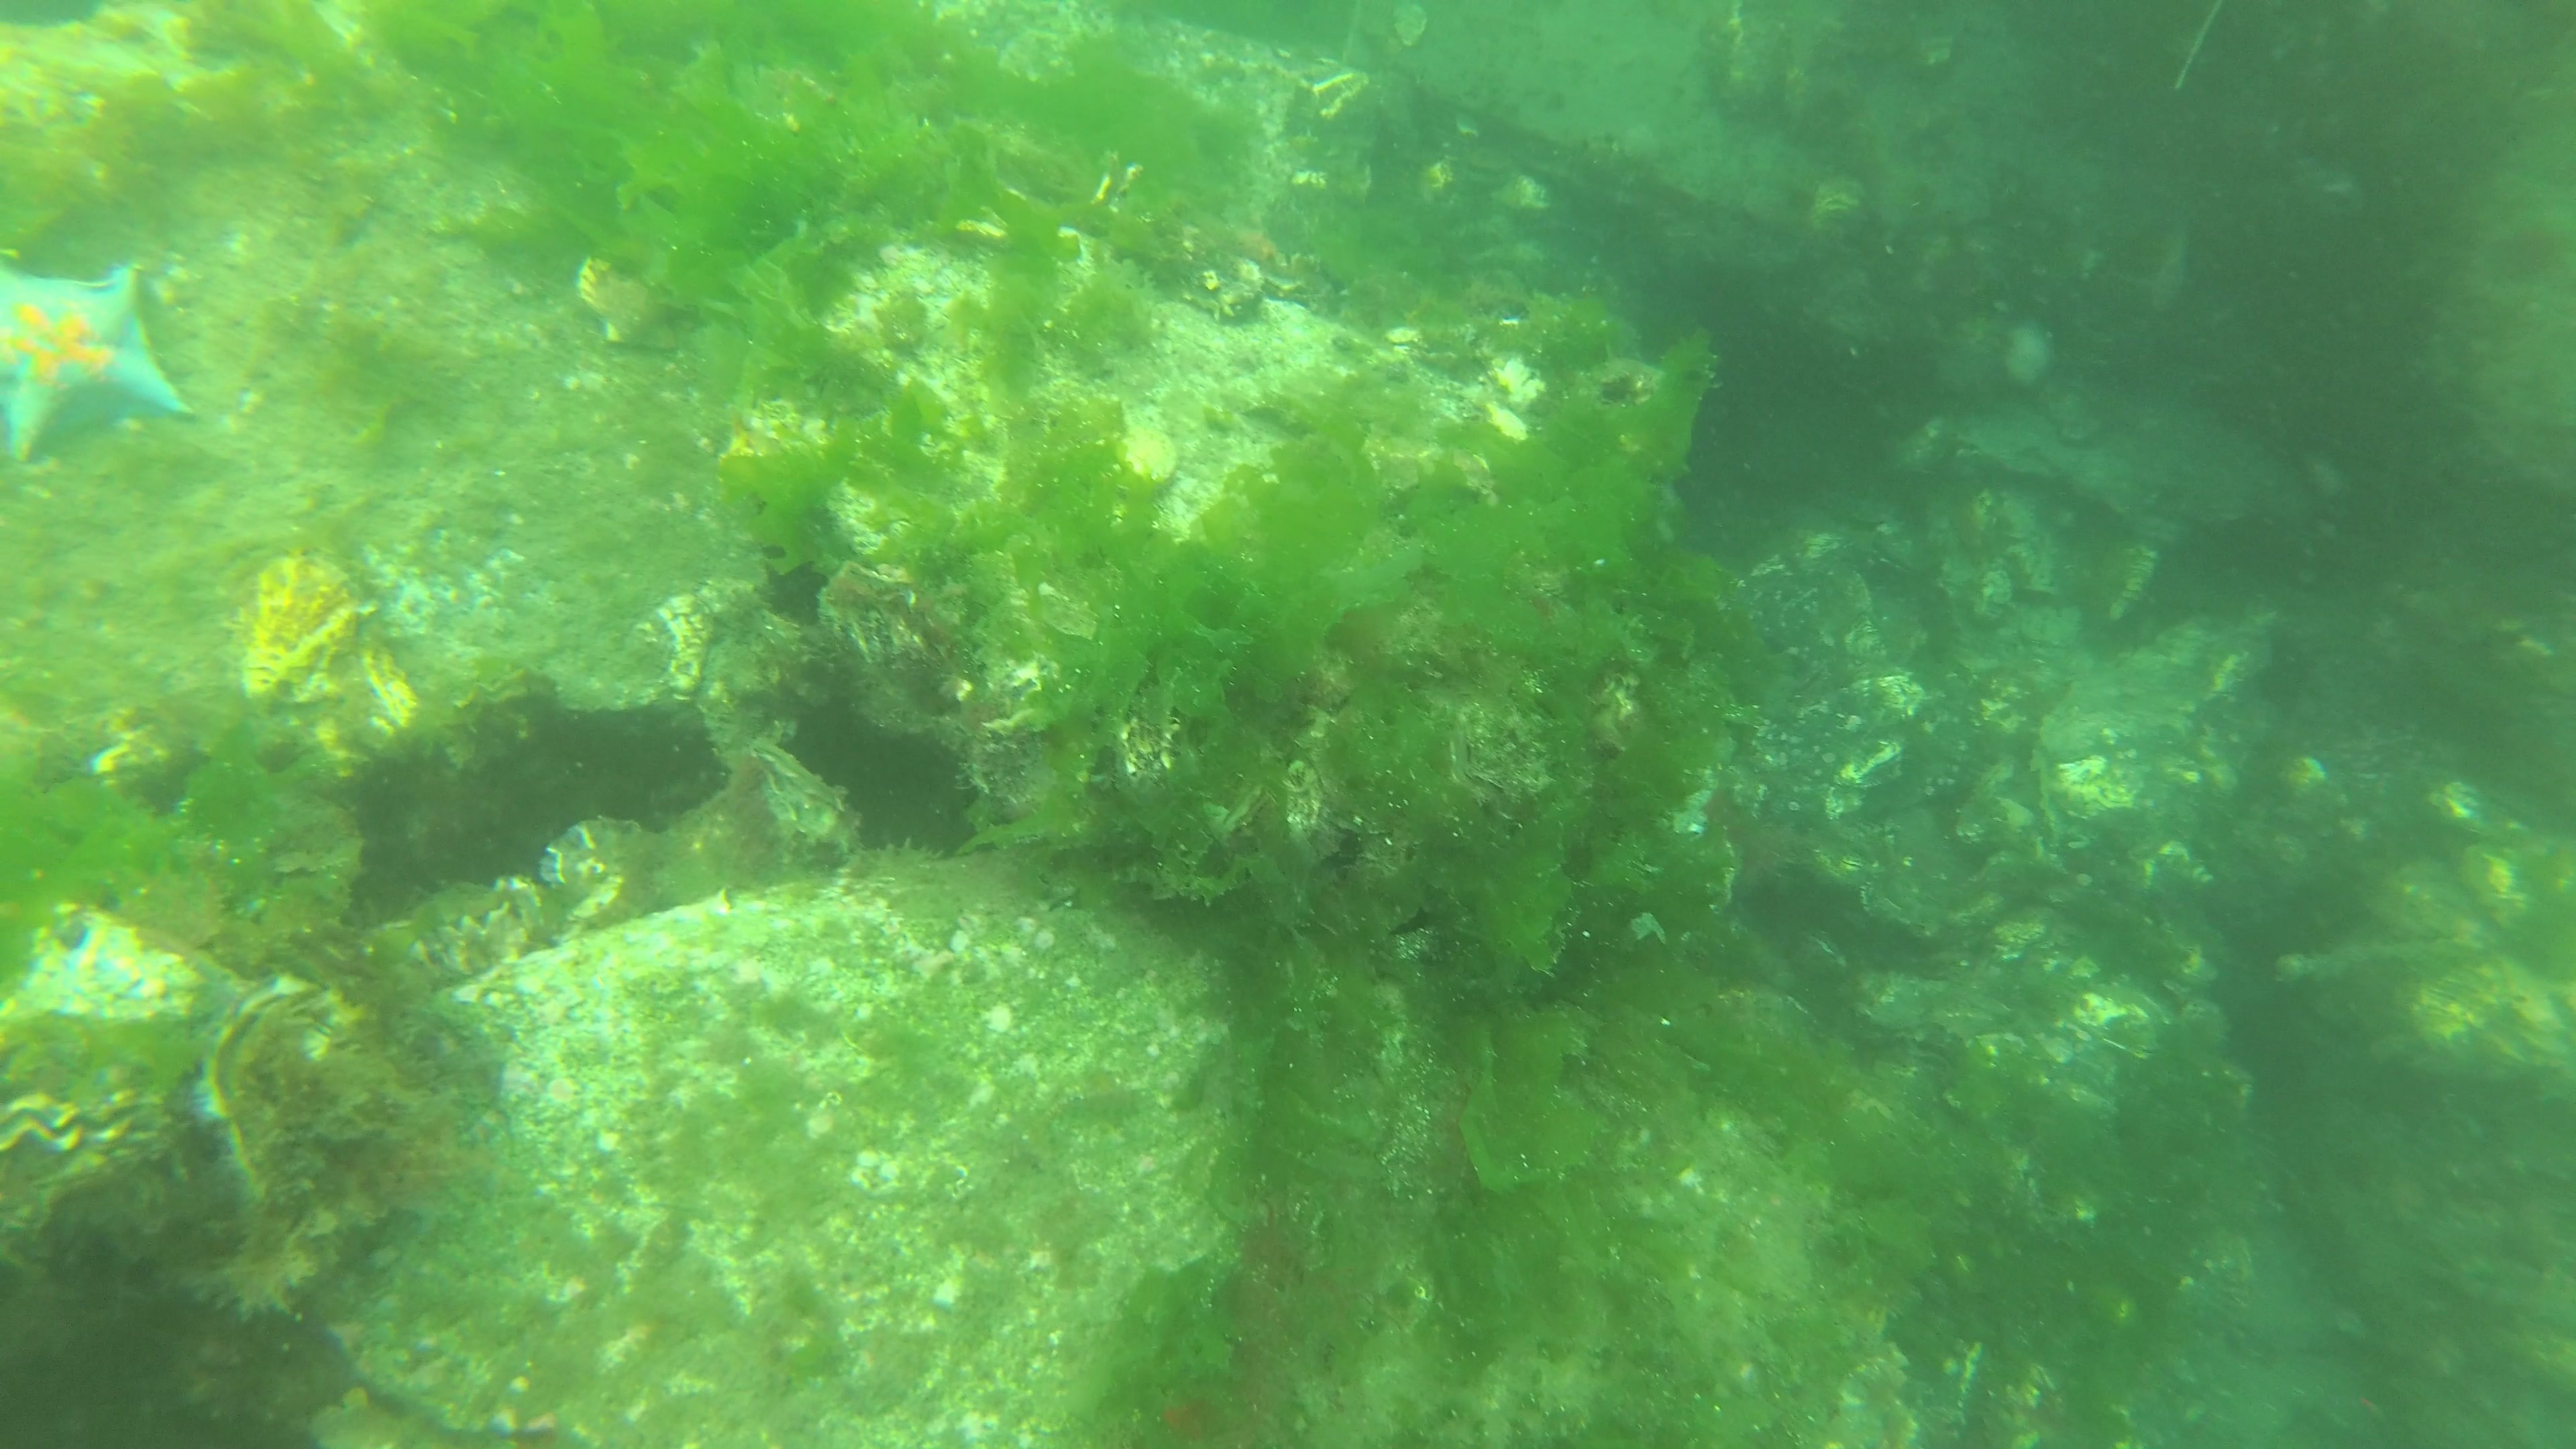starfish: (4, 264, 200, 469)
